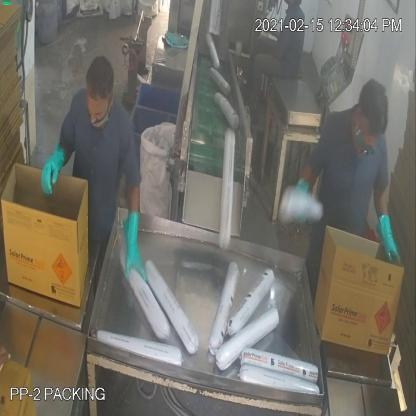glove: (115, 202, 156, 294), (36, 134, 73, 210), (378, 196, 404, 270)
